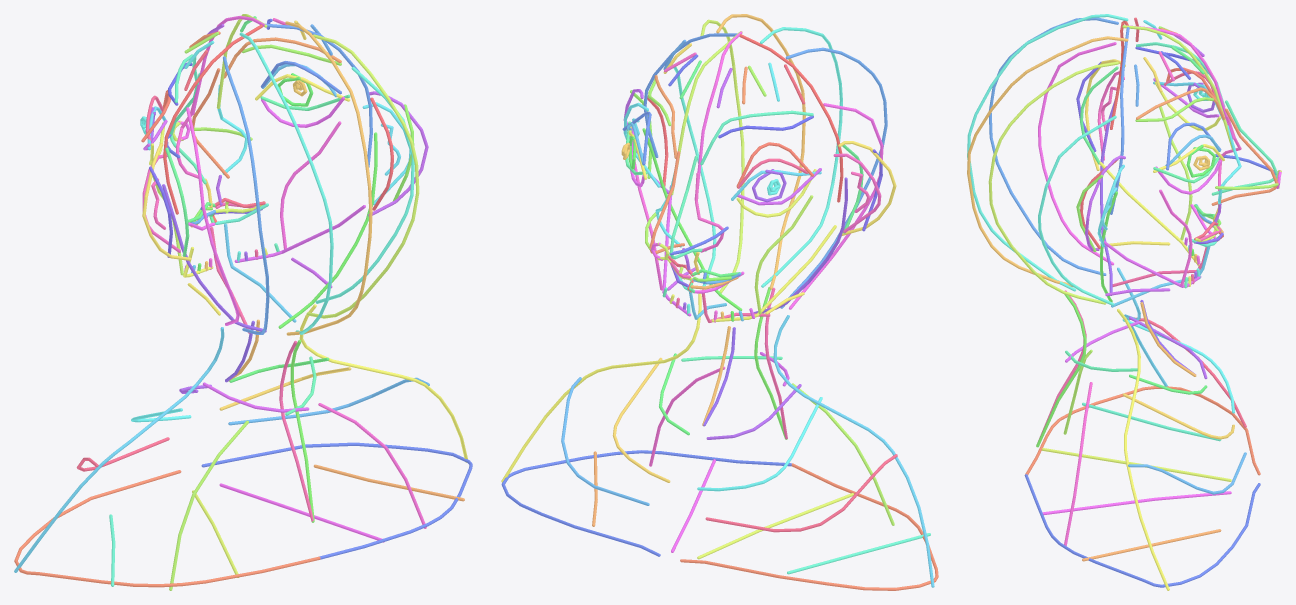
The model's file is author1_bust.gltf.
3 views of the same model, side by side, from view 1: azimuth 30°, elevation 25°; view 2: azimuth 150°, elevation 25°; view 3: azimuth 270°, elevation 25° (orthographic). The views are drawn at different scales.
Size of the model in its own units: 0.6248 by 0.6729 by 0.4122.
